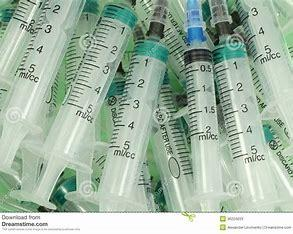Syringe: (182, 3, 236, 202)
